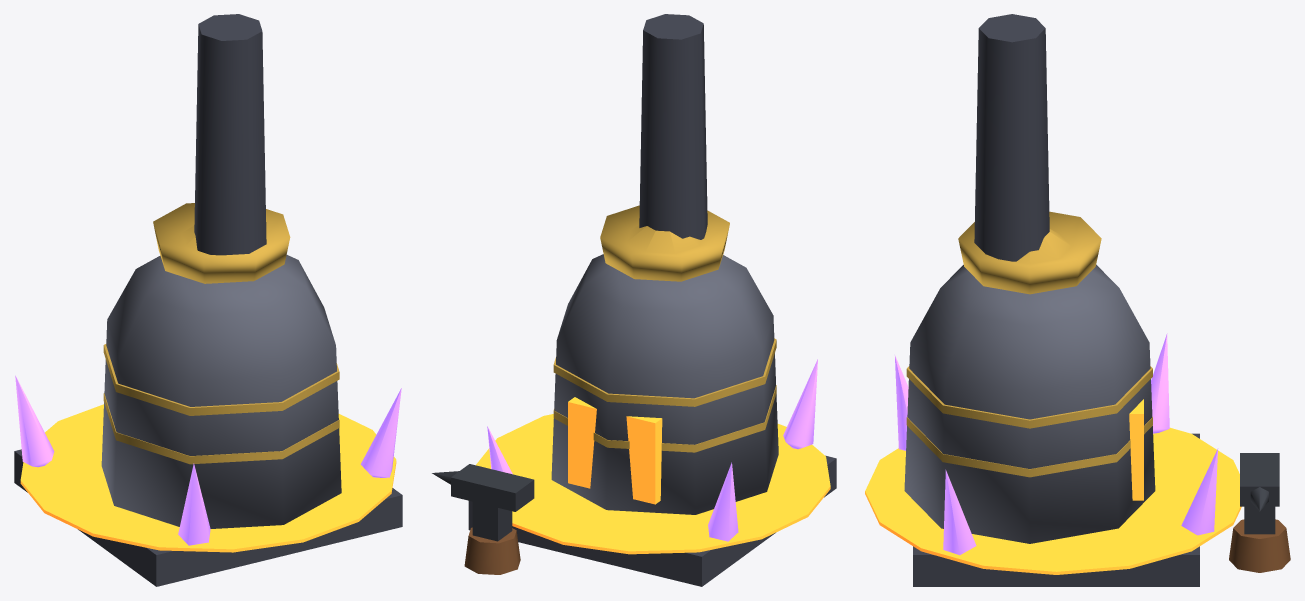
Rendered from forge10.glb.
3 renders of one model, left to right at view 1: azimuth 30°, elevation 25°; view 2: azimuth 150°, elevation 25°; view 3: azimuth 270°, elevation 25°, orthographic. The views are drawn at different scales.
Visible parts, largest first — view 1: Stone_6B6F7E, StoneDark_484B58, Fire_FF8A2B, Gold_E6B84A, Crystal_9B6BFF; view 2: Stone_6B6F7E, Fire_FF8A2B, StoneDark_484B58, Gold_E6B84A, Metal_3C4048, Crystal_9B6BFF, Wood_8A5A34; view 3: Stone_6B6F7E, StoneDark_484B58, Fire_FF8A2B, Gold_E6B84A, Crystal_9B6BFF, Metal_3C4048, Wood_8A5A34.
Part boxes in pixels (x1,y1,x2,y2): Stone_6B6F7E: (101, 255, 341, 528); StoneDark_484B58: (14, 14, 402, 586); Fire_FF8A2B: (20, 404, 396, 552); Gold_E6B84A: (103, 203, 339, 464); Crystal_9B6BFF: (15, 375, 401, 545); Stone_6B6F7E: (551, 254, 778, 514); Fire_FF8A2B: (476, 397, 830, 554); StoneDark_484B58: (468, 14, 836, 586); Gold_E6B84A: (553, 205, 776, 452); Metal_3C4048: (432, 464, 534, 541); Crystal_9B6BFF: (487, 359, 817, 541); Wood_8A5A34: (464, 527, 520, 574); Stone_6B6F7E: (904, 264, 1155, 543); StoneDark_484B58: (913, 14, 1199, 586); Fire_FF8A2B: (865, 399, 1241, 574); Gold_E6B84A: (906, 211, 1152, 477); Crystal_9B6BFF: (895, 333, 1218, 555); Metal_3C4048: (1240, 453, 1279, 534); Wood_8A5A34: (1229, 519, 1290, 572).
Size of the model in its own units: 15.43 by 22.16 by 17.16.
